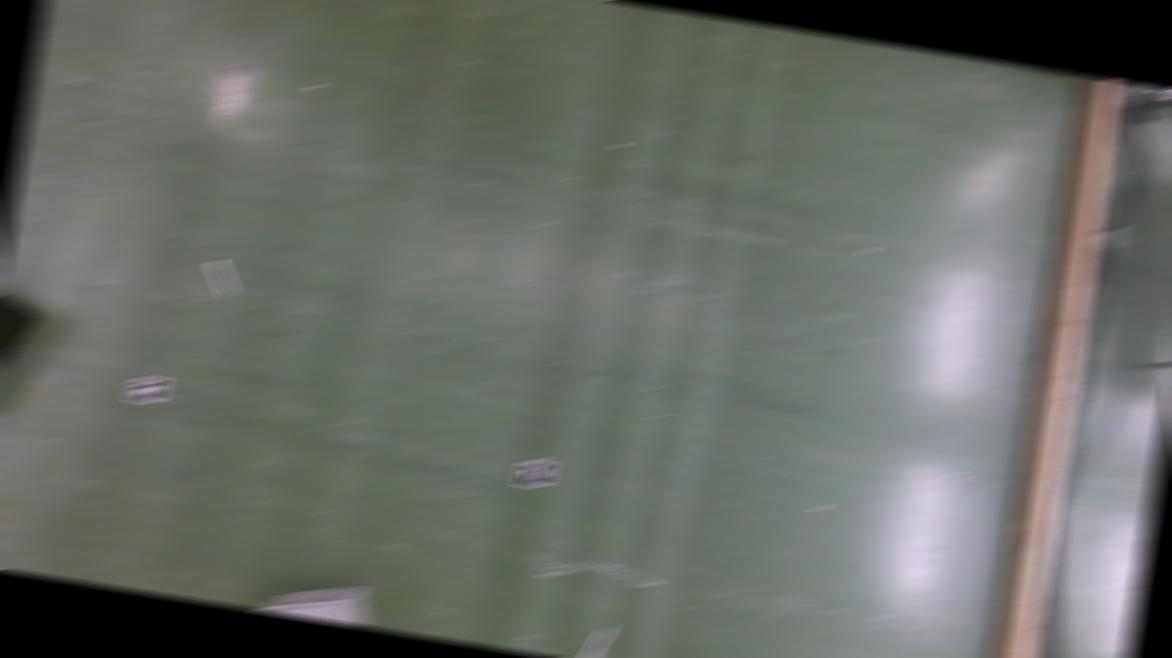probes: (206, 258, 240, 295), (581, 622, 615, 658)
rako: (252, 570, 385, 628), (0, 287, 45, 425)
